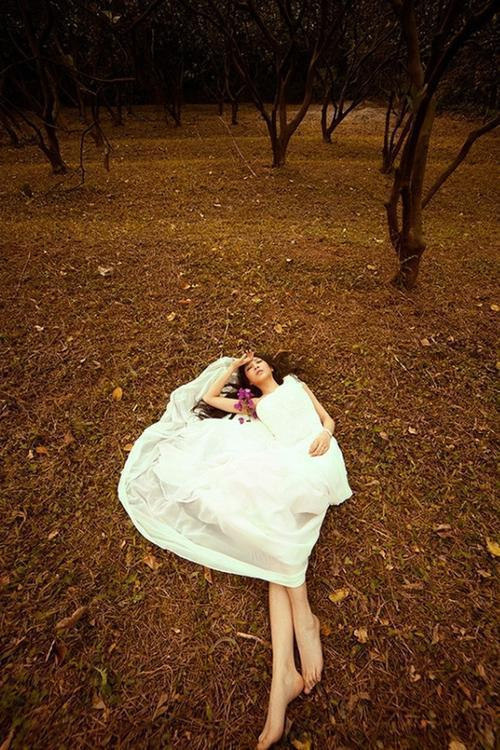Fall-Detected: (114, 334, 370, 744)
